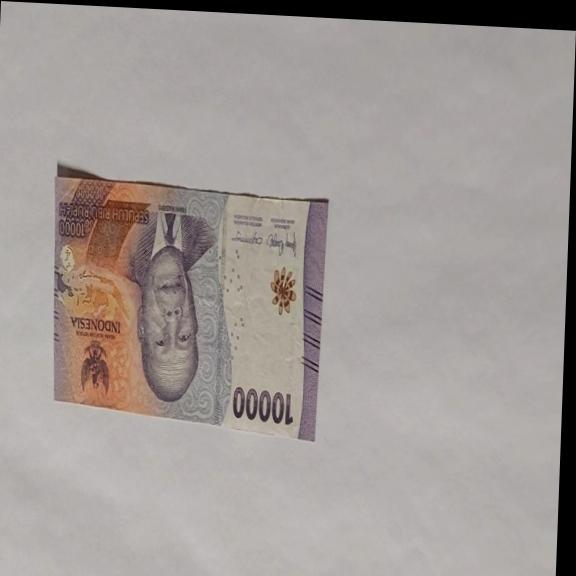Kertas: (45, 170, 329, 444), (230, 384, 295, 428)
